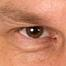eye: (27, 26, 42, 38)
